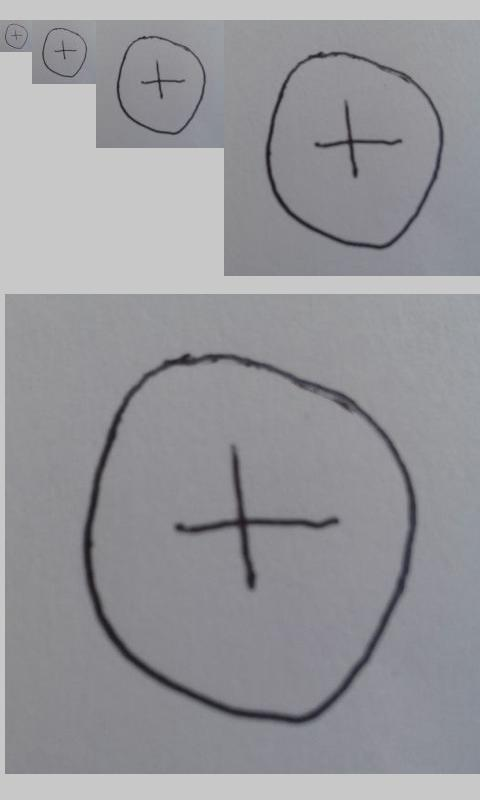button: (79, 351, 420, 726), (265, 51, 445, 250), (116, 35, 207, 135), (41, 27, 87, 78), (4, 23, 28, 49)
